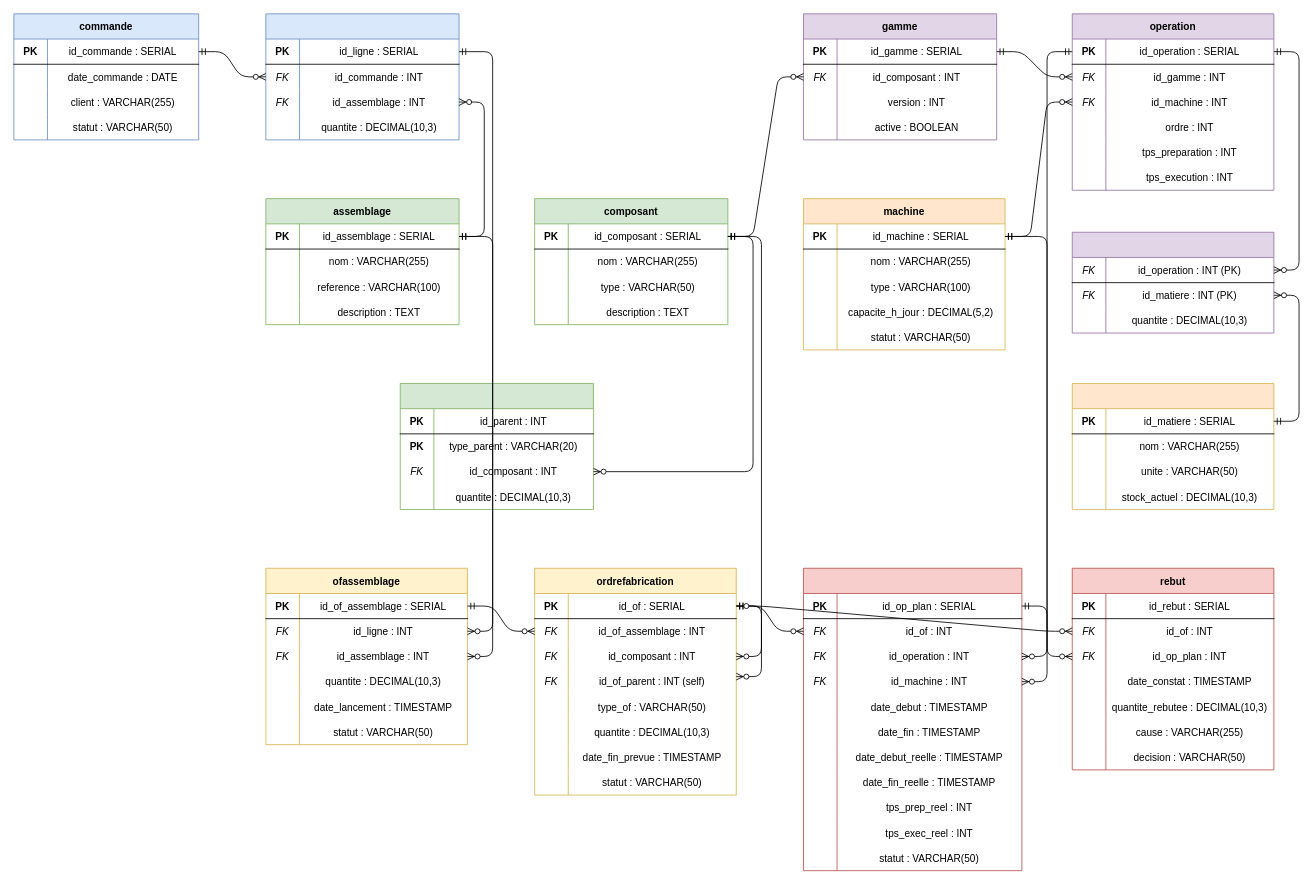
The diagram is 1313 pixels wide and 885 high, and some of its shapes have lost their labels. Each missing label, with the box of its shape:
lignecommande: (265, 13, 459, 140)
matierepremiere: (1071, 383, 1274, 509)
nomenclature: (399, 383, 593, 509)
operationmatiere: (1071, 231, 1274, 333)
operationplanifiee: (803, 567, 1022, 871)
